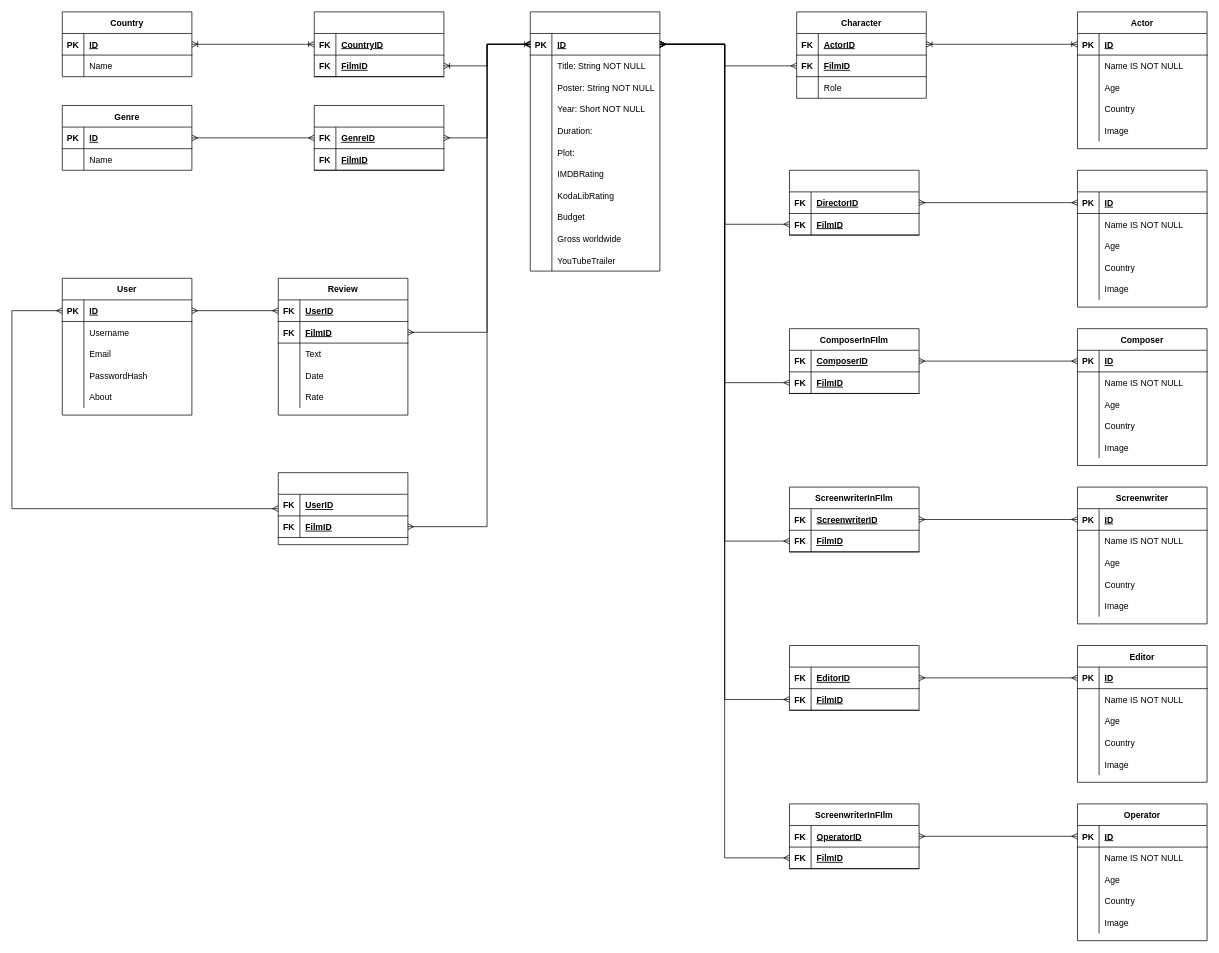
The diagram is 1219 pixels wide and 953 high, and some of its shapes have lost their labels. Here are the shapes that lost their labels. From the top down, the box of each, then its label:
(314, 11, 444, 77): FilmCountry
(314, 105, 444, 170): FilmGenre
(530, 11, 660, 271): Films
(789, 170, 919, 235): DirectorInFIlm
(1077, 170, 1207, 307): Director
(278, 472, 408, 545): WatchList
(789, 645, 919, 710): EditorInFIlm
